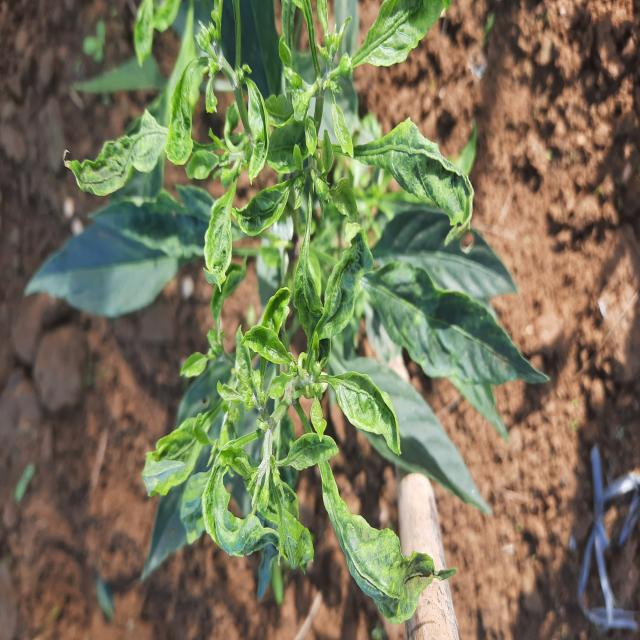thrips: (316, 474, 437, 624), (324, 365, 406, 458), (231, 186, 293, 246), (204, 183, 238, 283), (241, 324, 300, 378)
